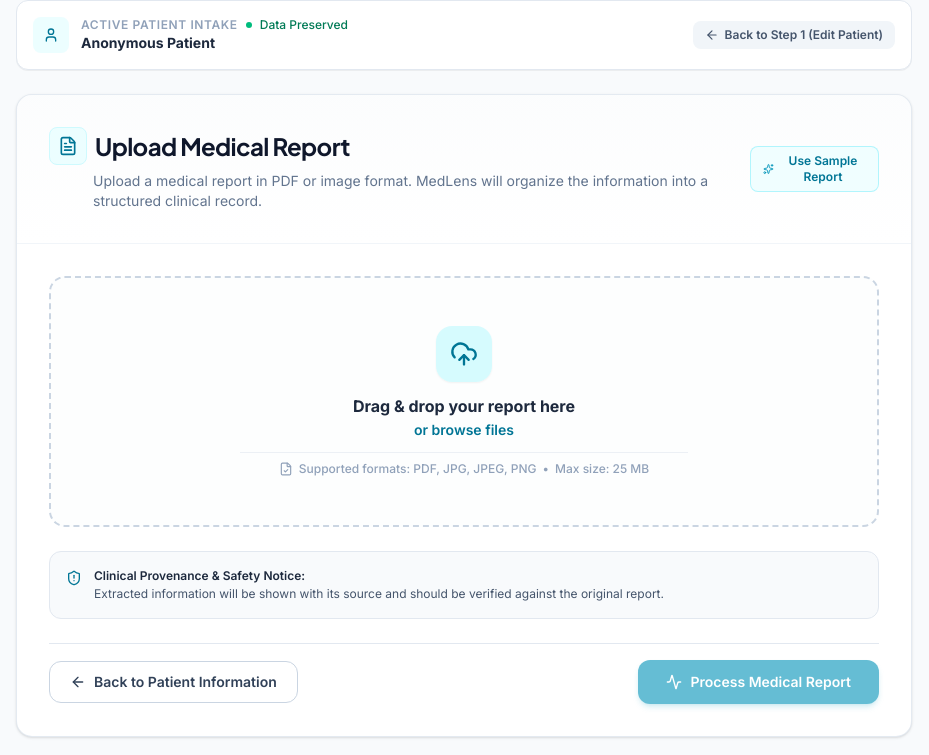
it: ReportProcessing Component › removes uploaded report when clicking remove button
The image size is (929, 755).
Load sample report first
Click the button "Use Sample Report" at (815, 169), box [750, 146, 879, 192]
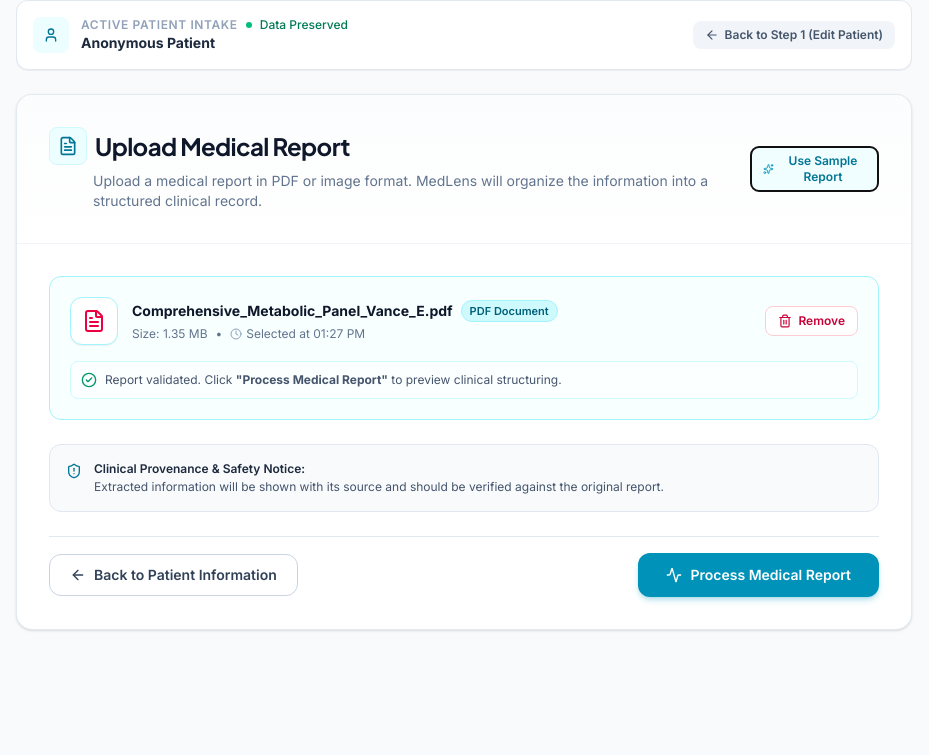
expect the text "Comprehensive_Metabolic_Panel_Vance_E.pdf" is shown: met, box [132, 301, 453, 321]
Click remove report
Click the button titled "Remove this file" at (812, 321), box [765, 306, 858, 336]
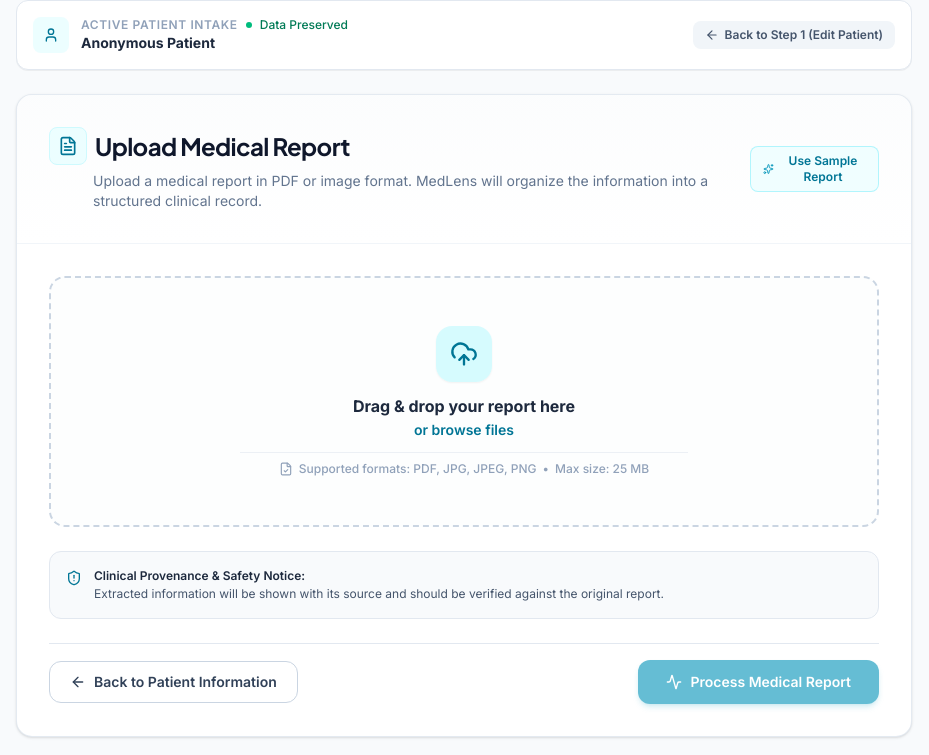
expect the text "Comprehensive_Metabolic_Panel_Vance_E.pdf" is gone: met
